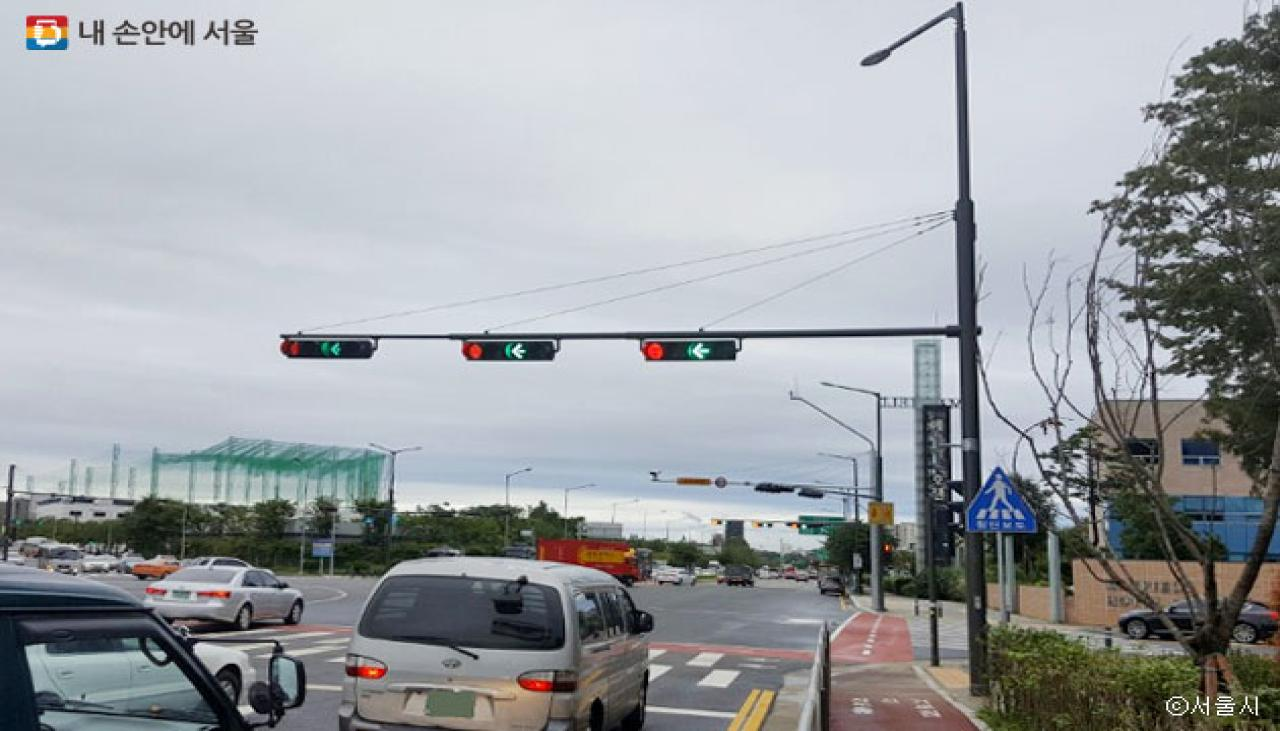Left turn: (504, 342, 530, 361), (686, 343, 712, 362), (323, 338, 347, 358)
Red Light: (462, 341, 488, 361), (641, 341, 667, 361), (280, 340, 306, 359)
